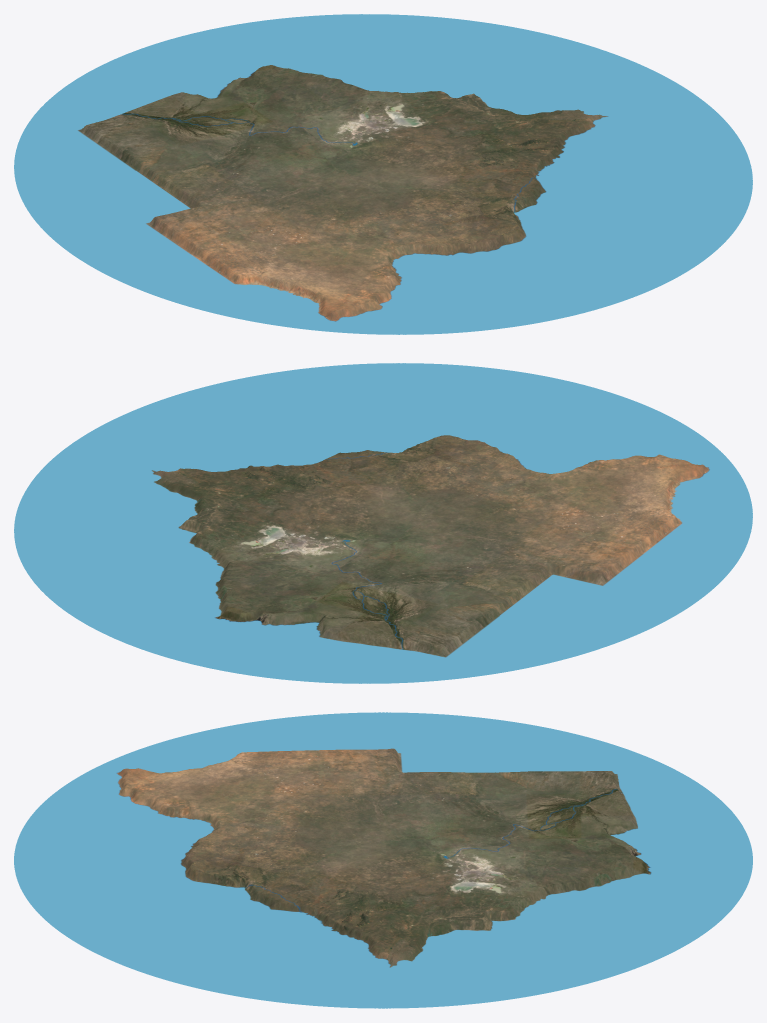
File: BWA-previa-terrain.glb
3 renders of one model, top to bottom at view 1: azimuth 30°, elevation 25°; view 2: azimuth 150°, elevation 25°; view 3: azimuth 270°, elevation 25°, orthographic. The views are drawn at different scales.
Parts seen in each view (by area): view 1: Botsuana; view 2: Botsuana; view 3: Botsuana.
Boxes of the visible parts, left/top/right/bottom form: Botsuana: left=14, top=14, right=752, bottom=334; Botsuana: left=14, top=363, right=752, bottom=683; Botsuana: left=14, top=712, right=752, bottom=1008.
Bounding box in the file's own units: 2.31 × 0.0294 × 2.44.
Materials: 1 (1 with a texture image).
